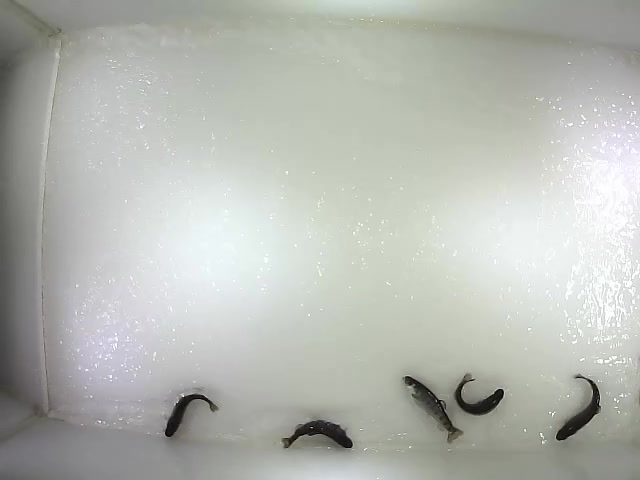fish: (402, 374, 465, 445), (554, 372, 603, 442), (163, 393, 221, 439), (280, 417, 355, 451), (453, 371, 505, 418)
